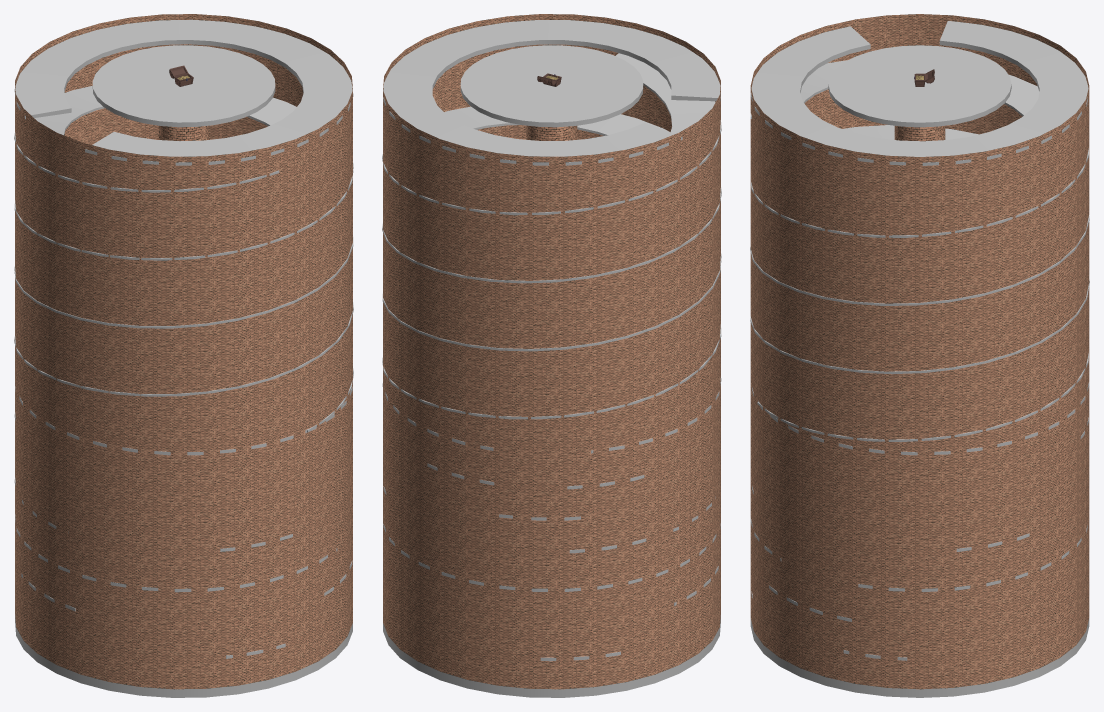
The model's file is tower_prototype.fbx.
3 views of the same model, side by side, from view 1: azimuth 30°, elevation 25°; view 2: azimuth 150°, elevation 25°; view 3: azimuth 270°, elevation 25° (orthographic).
Parts seen in each view (by area): view 1: outerWall, base_ring.003, area1_floor.001, Spiral, Base, Platforms, Pillar; view 2: outerWall, base_ring.003, area1_floor.001, Spiral, Base, Platforms, Pillar; view 3: outerWall, base_ring.003, area1_floor.001, Spiral, Base, Platforms, Pillar.
Boxes of the visible parts, x1,y1,x2,y2 form: outerWall: [15, 14, 352, 689]; base_ring.003: [14, 19, 353, 165]; area1_floor.001: [92, 45, 275, 127]; Spiral: [14, 86, 353, 432]; Base: [15, 615, 352, 697]; Platforms: [14, 386, 352, 658]; Pillar: [158, 125, 209, 140]; outerWall: [383, 14, 720, 689]; base_ring.003: [383, 20, 720, 165]; area1_floor.001: [460, 45, 643, 127]; Spiral: [382, 53, 721, 419]; Base: [383, 615, 720, 697]; Platforms: [382, 378, 721, 661]; Pillar: [526, 125, 577, 140]; outerWall: [750, 14, 1089, 689]; base_ring.003: [750, 21, 1088, 165]; area1_floor.001: [828, 45, 1011, 127]; Spiral: [750, 60, 1089, 442]; Base: [750, 618, 1089, 697]; Platforms: [750, 383, 1089, 660]; Pillar: [894, 126, 945, 141].
Bounding box in the file's own units: 2386 × 4294 × 2386.
